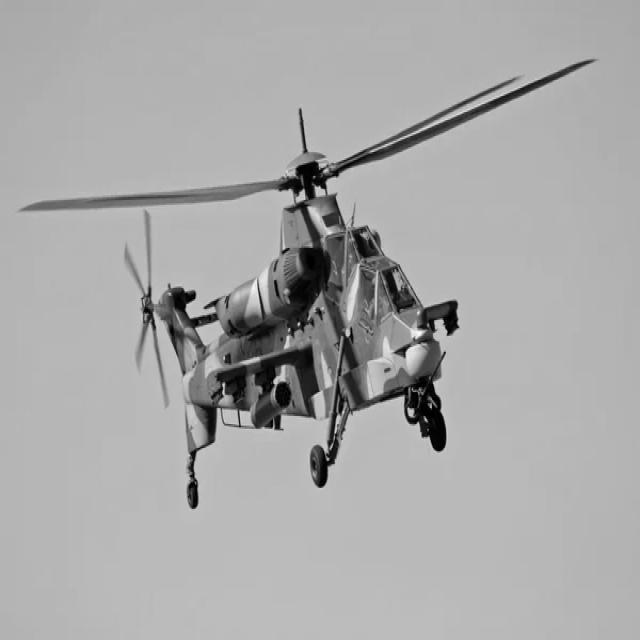Helicopter: (23, 60, 594, 509)
